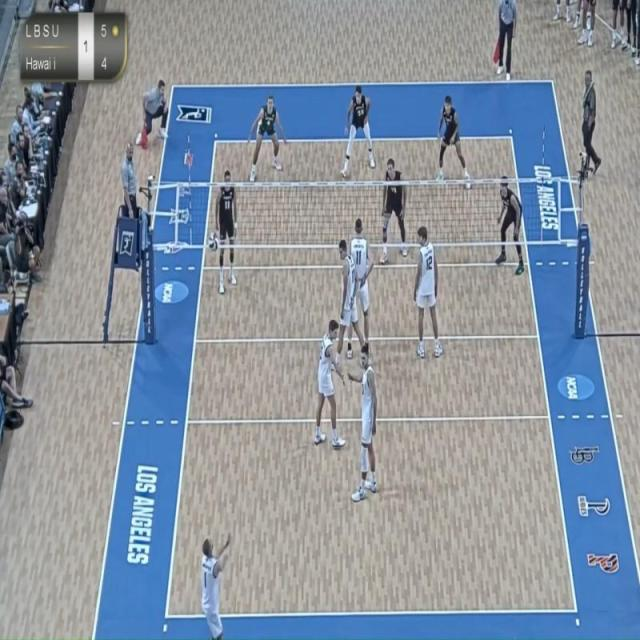volleyball: (206, 230, 221, 252)
